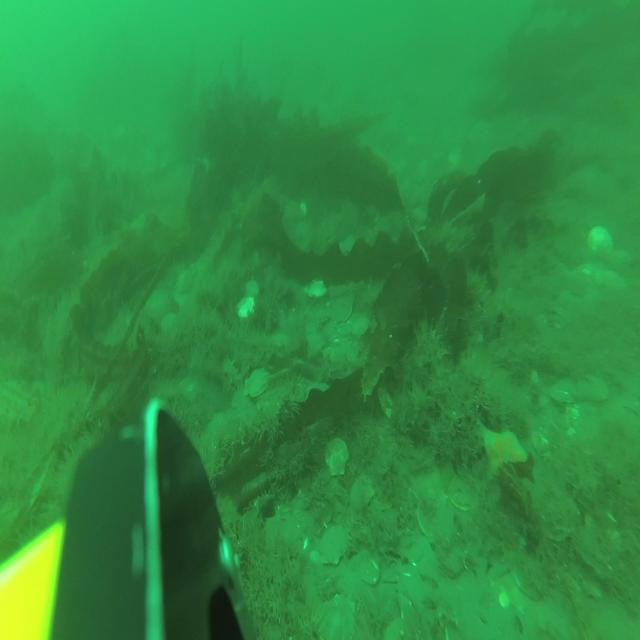holothurian: (583, 219, 616, 261), (219, 348, 244, 391)
scallop: (313, 590, 357, 640), (415, 487, 454, 541), (449, 467, 489, 514), (316, 522, 351, 568), (549, 371, 579, 410), (323, 435, 349, 477), (580, 370, 610, 406), (349, 474, 375, 511), (243, 366, 270, 399), (330, 296, 356, 323), (359, 555, 382, 585), (173, 264, 194, 296), (235, 294, 257, 324), (306, 279, 330, 300), (305, 330, 326, 353), (245, 279, 259, 301)
starfish: (476, 416, 531, 487)
